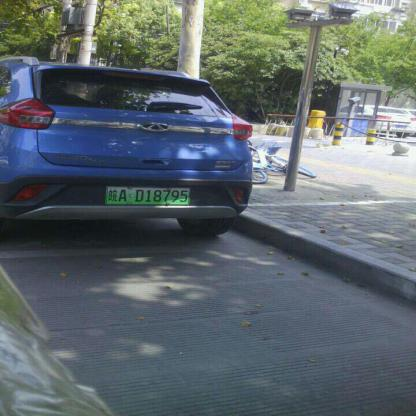lp: (106, 185, 190, 205)
